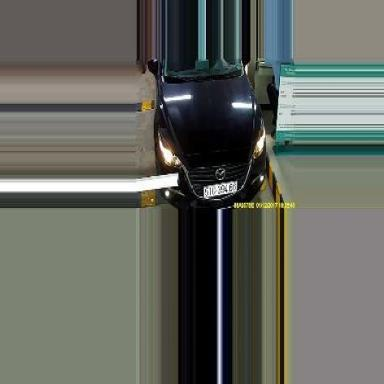License_Plate: (201, 180, 238, 200)
